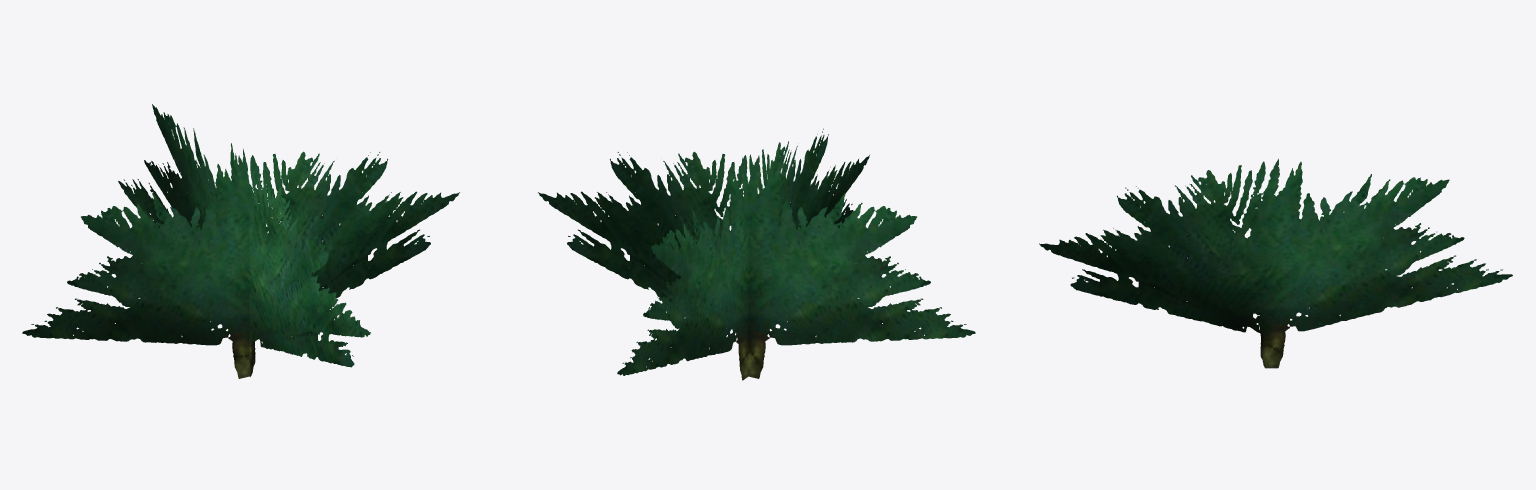
File: fern_giantfern_blue_l2.fbx
3 views of the same model, side by side, from view 1: azimuth 30°, elevation 25°; view 2: azimuth 150°, elevation 25°; view 3: azimuth 270°, elevation 25° (orthographic). The views are drawn at different scales.
Parts seen in each view (by area): view 1: mesh_node; view 2: mesh_node; view 3: mesh_node.
Boxes of the visible parts, x1=… form: mesh_node: x1=22, y1=104, x2=459, y2=378; mesh_node: x1=538, y1=128, x2=975, y2=380; mesh_node: x1=1039, y1=158, x2=1512, y2=368.
Size of the model in its own units: 8.9 by 4.75 by 8.9.
